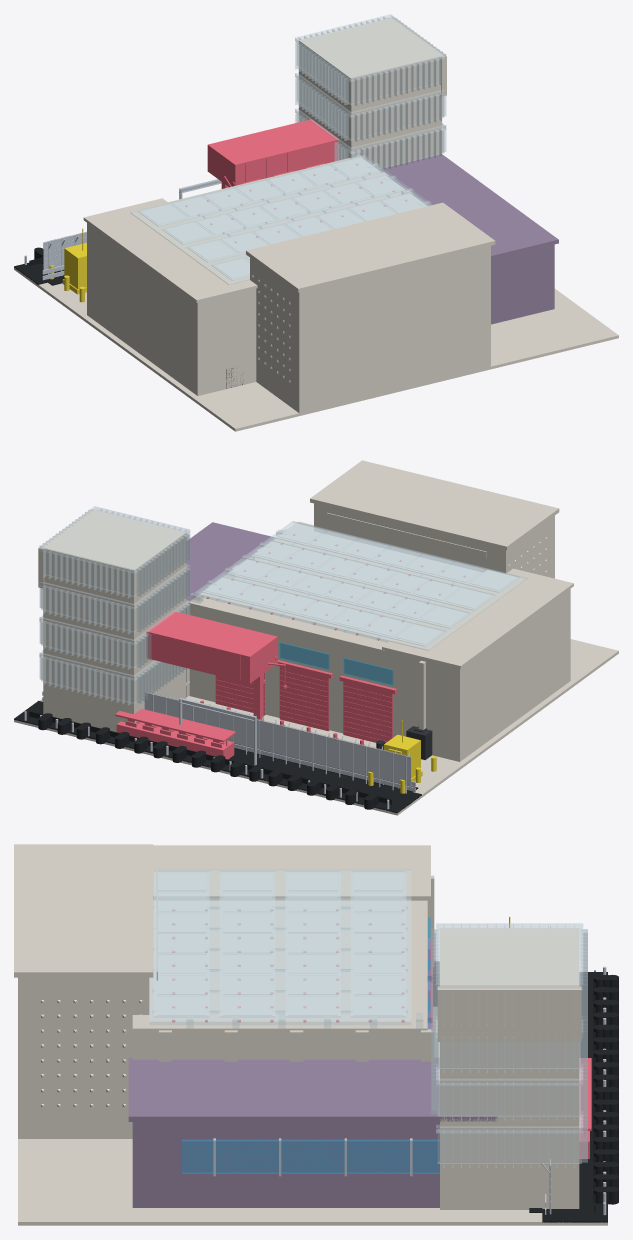
File: hq_08_motorsport_l6.glb
3 views of the same model, one above another, from view 1: azimuth 30°, elevation 25°; view 2: azimuth 150°, elevation 25°; view 3: azimuth 270°, elevation 25° (orthographic). The views are drawn at different scales.
Parts seen in each view (by area): view 1: GEO_Motorsport_DIL_Sim_Shell, GEO_Motorsport_Rapid_Prototyping_Shell, GEO_Motorsport_Telemetry_Tower_Shell, GEO_Motorsport_Tower_Curtain_Glass, GEO_Motorsport_Photovoltaic_Solar_Canopy, GEO_Motorsport_Race_Bay_Shell, GEO_Motorsport_Office_Halls, GEO_Motorsport_Foundation_Plinth, GEO_Motorsport_Pitlane_Gantry_Bridge, GEO_Motorsport_Circuit_Safety_Fencing, GEO_Motorsport_Track_Marshal_Post, GEO_Motorsport_Circuit_Test_Strip; view 2: GEO_Motorsport_Race_Bay_Shell, GEO_Motorsport_Telemetry_Tower_Shell, GEO_Motorsport_Rapid_Prototyping_Shell, GEO_Motorsport_Photovoltaic_Solar_Canopy, GEO_Motorsport_Tower_Curtain_Glass, GEO_Motorsport_DIL_Sim_Shell, GEO_Motorsport_Pitlane_Gantry_Bridge, GEO_Motorsport_Circuit_Safety_Fencing, GEO_Motorsport_Circuit_Test_Strip, GEO_Motorsport_Bay_RollUp_Doors, GEO_Motorsport_Foundation_Plinth, GEO_Motorsport_Office_Halls (+3 smaller); view 3: GEO_Motorsport_Office_Halls, GEO_Motorsport_Race_Bay_Shell, GEO_Motorsport_Photovoltaic_Solar_Canopy, GEO_Motorsport_Telemetry_Tower_Shell, GEO_Motorsport_DIL_Sim_Shell, GEO_Motorsport_Tower_Curtain_Glass, GEO_Motorsport_Foundation_Plinth, GEO_Motorsport_Rapid_Prototyping_Shell, GEO_Motorsport_Circuit_Test_Strip, GEO_Motorsport_Office_Glass, GEO_Motorsport_Pitlane_Gantry_Bridge, GEO_Motorsport_Circuit_Safety_Fencing (+1 smaller).
Boxes of the visible parts, left/top/right/bottom form: GEO_Motorsport_DIL_Sim_Shell: left=246, top=202, right=495, bottom=413; GEO_Motorsport_Rapid_Prototyping_Shell: left=83, top=198, right=257, bottom=395; GEO_Motorsport_Telemetry_Tower_Shell: left=299, top=17, right=446, bottom=168; GEO_Motorsport_Tower_Curtain_Glass: left=295, top=14, right=446, bottom=169; GEO_Motorsport_Photovoltaic_Solar_Canopy: left=130, top=150, right=432, bottom=284; GEO_Motorsport_Race_Bay_Shell: left=168, top=154, right=426, bottom=386; GEO_Motorsport_Office_Halls: left=379, top=154, right=558, bottom=324; GEO_Motorsport_Foundation_Plinth: left=14, top=267, right=618, bottom=431; GEO_Motorsport_Pitlane_Gantry_Bridge: left=207, top=119, right=338, bottom=188; GEO_Motorsport_Circuit_Safety_Fencing: left=24, top=179, right=221, bottom=280; GEO_Motorsport_Track_Marshal_Post: left=49, top=228, right=86, bottom=302; GEO_Motorsport_Circuit_Test_Strip: left=14, top=247, right=64, bottom=285; GEO_Motorsport_Race_Bay_Shell: left=186, top=521, right=482, bottom=736; GEO_Motorsport_Telemetry_Tower_Shell: left=38, top=509, right=186, bottom=732; GEO_Motorsport_Rapid_Prototyping_Shell: left=382, top=568, right=573, bottom=761; GEO_Motorsport_Photovoltaic_Solar_Canopy: left=190, top=521, right=527, bottom=650; GEO_Motorsport_Tower_Curtain_Glass: left=39, top=506, right=190, bottom=705; GEO_Motorsport_DIL_Sim_Shell: left=310, top=460, right=559, bottom=578; GEO_Motorsport_Pitlane_Gantry_Bridge: left=115, top=611, right=364, bottom=759; GEO_Motorsport_Circuit_Safety_Fencing: left=24, top=691, right=415, bottom=809; GEO_Motorsport_Circuit_Test_Strip: left=14, top=700, right=421, bottom=813; GEO_Motorsport_Bay_RollUp_Doors: left=215, top=660, right=396, bottom=743; GEO_Motorsport_Foundation_Plinth: left=14, top=639, right=618, bottom=815; GEO_Motorsport_Office_Halls: left=186, top=522, right=275, bottom=601; GEO_Motorsport_Office_Halls: left=128, top=1057, right=497, bottom=1207; GEO_Motorsport_Race_Bay_Shell: left=132, top=875, right=434, bottom=1061; GEO_Motorsport_Photovoltaic_Solar_Canopy: left=149, top=869, right=423, bottom=1040; GEO_Motorsport_Telemetry_Tower_Shell: left=437, top=928, right=581, bottom=1209; GEO_Motorsport_DIL_Sim_Shell: left=14, top=844, right=157, bottom=1138; GEO_Motorsport_Tower_Curtain_Glass: left=431, top=923, right=587, bottom=1168; GEO_Motorsport_Foundation_Plinth: left=18, top=1007, right=607, bottom=1225; GEO_Motorsport_Rapid_Prototyping_Shell: left=153, top=845, right=430, bottom=900; GEO_Motorsport_Circuit_Test_Strip: left=529, top=970, right=618, bottom=1222; GEO_Motorsport_Office_Glass: left=182, top=1139, right=439, bottom=1173; GEO_Motorsport_Pitlane_Gantry_Bridge: left=579, top=1058, right=591, bottom=1158; GEO_Motorsport_Circuit_Safety_Fencing: left=541, top=926, right=606, bottom=1215.
Size of what is drawn, in the model's own units: 36 by 15.48 by 36.92.
